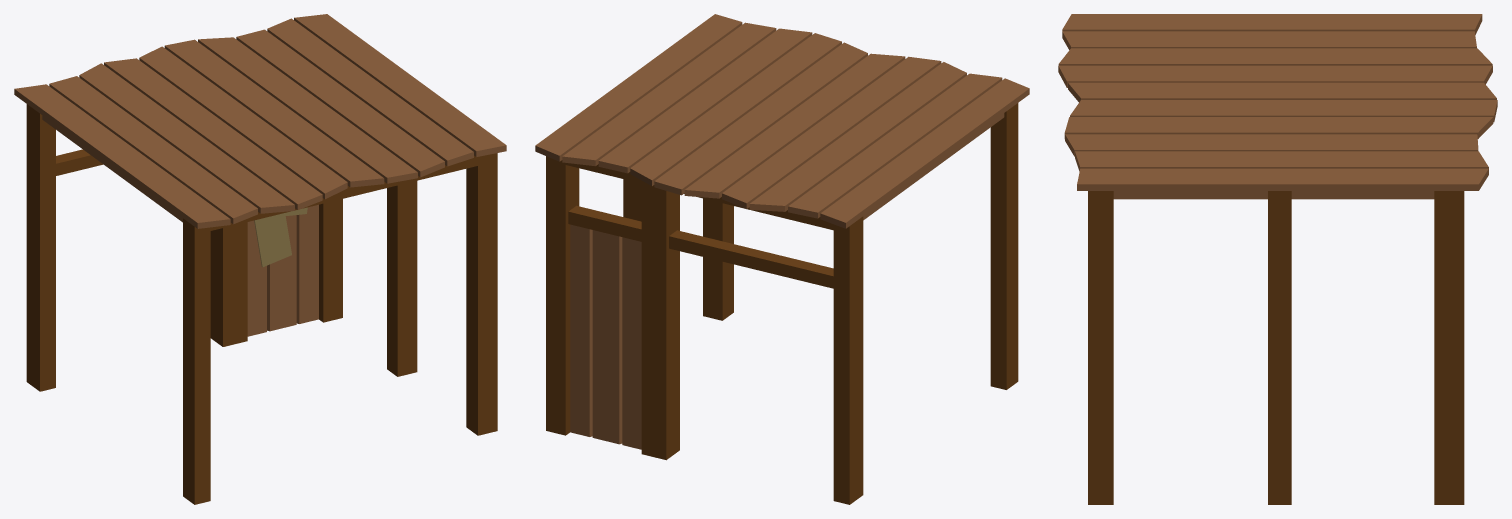
The model's file is PortBuilding.fbx.
3 views of the same model, side by side, from view 1: azimuth 30°, elevation 25°; view 2: azimuth 150°, elevation 25°; view 3: azimuth 270°, elevation 25° (orthographic). The views are drawn at different scales.
Visible parts, largest first — view 1: PortBuilding; view 2: PortBuilding; view 3: PortBuilding.
Boxes of the visible parts, x1,y1,x2,y2 form: PortBuilding: (14,14,506,504); PortBuilding: (535,14,1029,504); PortBuilding: (1058,14,1497,504).
Bounding box in the file's own units: 214 × 189 × 233.
